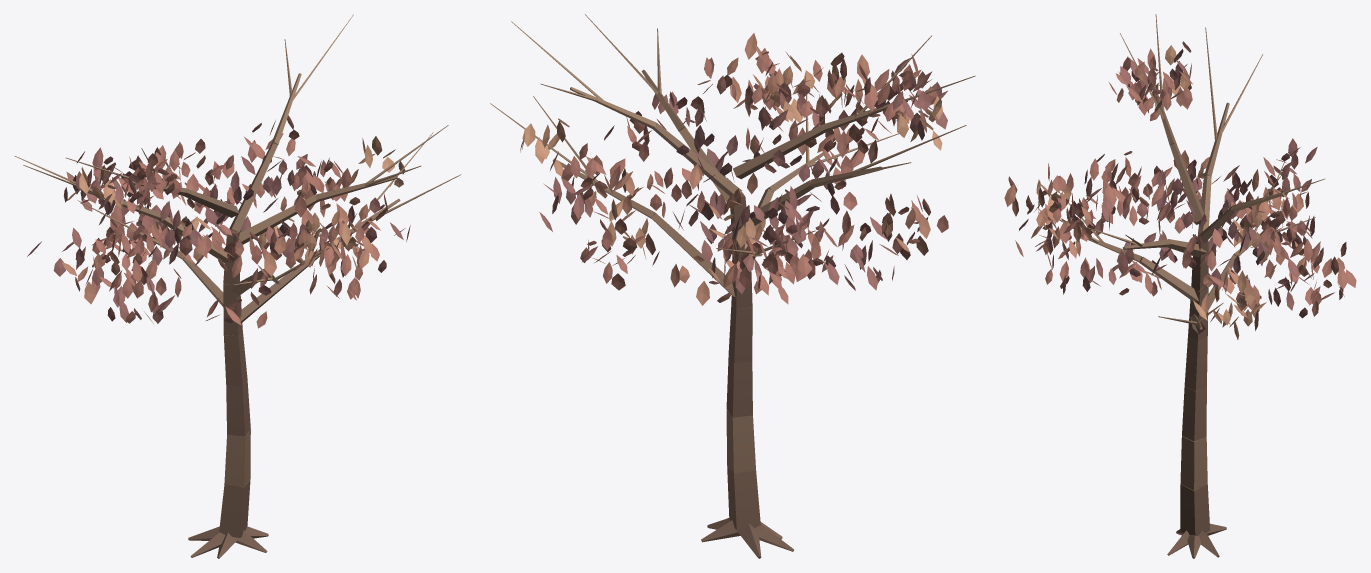
File: tree_3d_03_red.glb
The picture shows the model from 3 angles, left to right: view 1: azimuth 30°, elevation 25°; view 2: azimuth 150°, elevation 25°; view 3: azimuth 270°, elevation 25°; orthographic projection. The views are drawn at different scales.
Parts seen in each view (by area): view 1: tree_3d_03_red_foliage, tree_3d_03_red_wood; view 2: tree_3d_03_red_foliage, tree_3d_03_red_wood; view 3: tree_3d_03_red_foliage, tree_3d_03_red_wood.
Part boxes in pixels (box(x1,y1,x2,y2)): tree_3d_03_red_foliage: box(27, 115, 410, 328); tree_3d_03_red_wood: box(14, 14, 461, 558); tree_3d_03_red_foliage: box(520, 33, 948, 305); tree_3d_03_red_wood: box(490, 14, 975, 558); tree_3d_03_red_foliage: box(1004, 41, 1356, 339); tree_3d_03_red_wood: box(1059, 14, 1324, 558).
Bounding box in the file's own units: 10 × 10.5 × 7.4.
